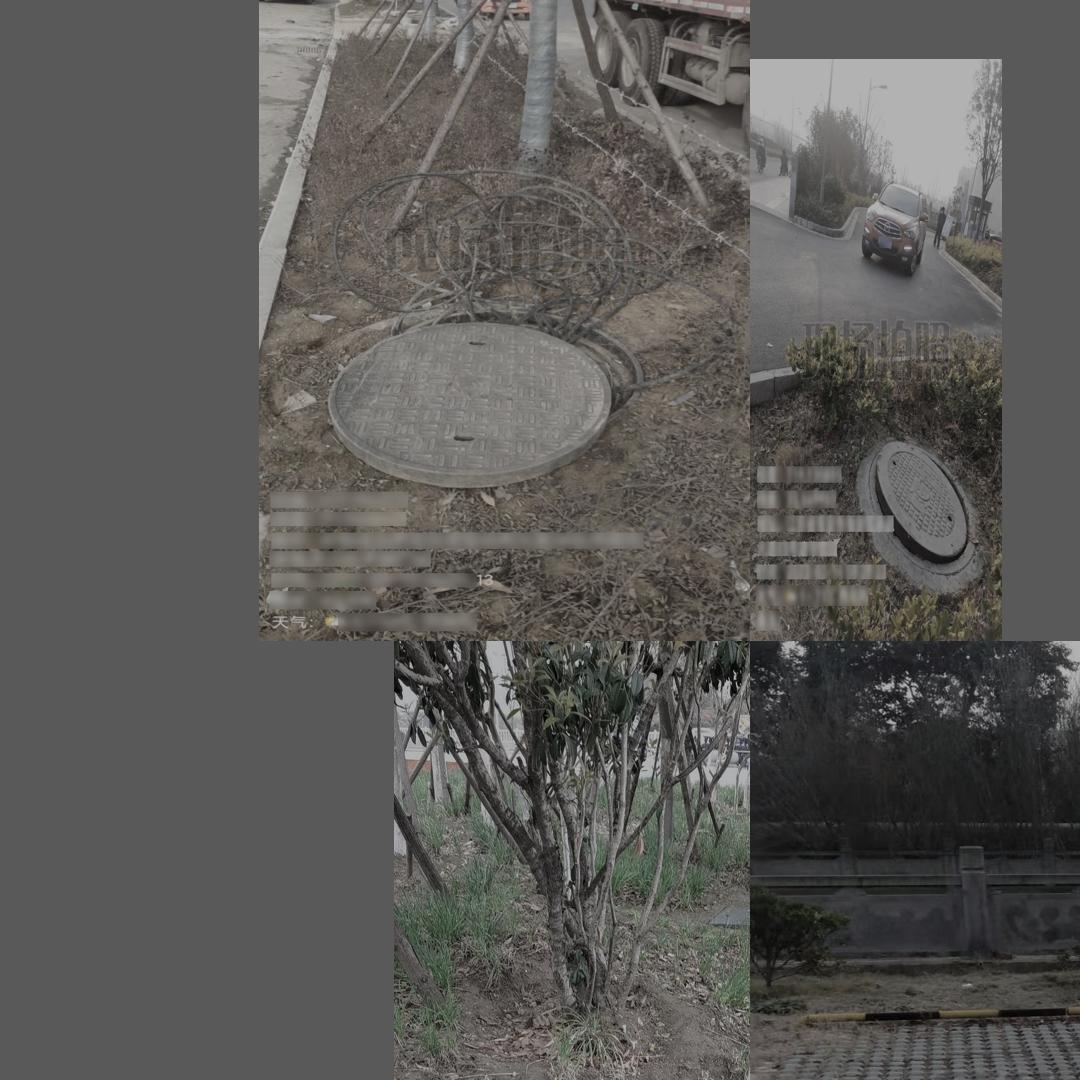uncovered: (327, 304, 639, 485), (866, 437, 976, 577)
